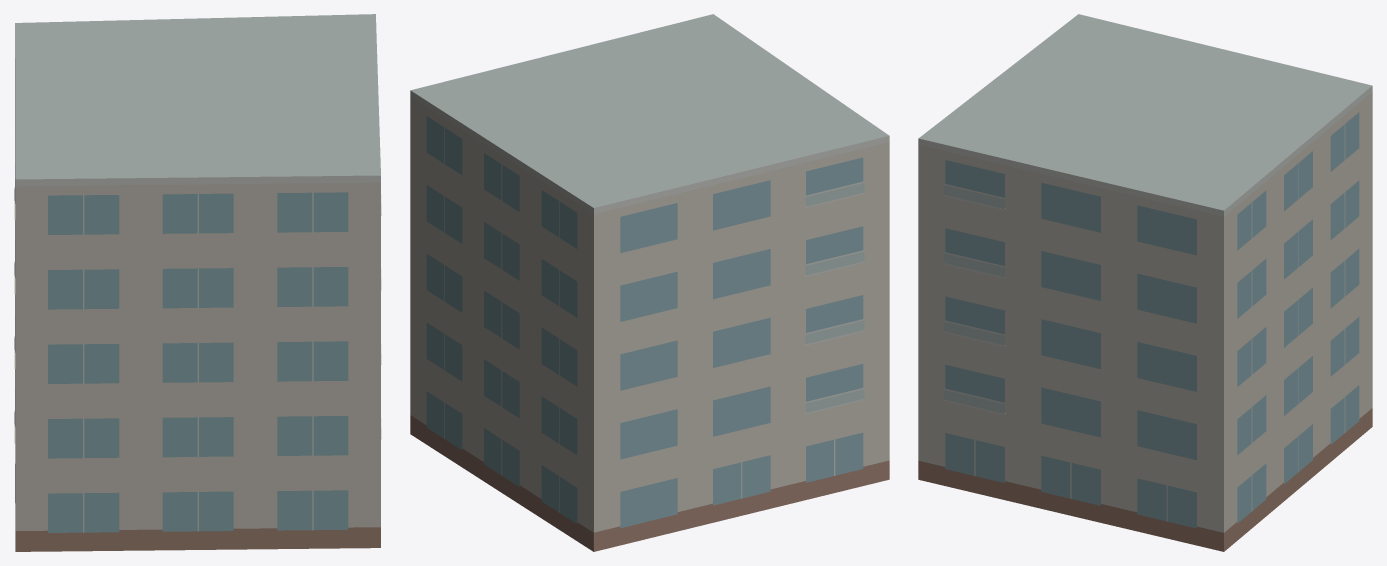
The model's file is survey-upis-32778359.glb.
3 renders of one model, left to right at view 1: azimuth 30°, elevation 25°; view 2: azimuth 150°, elevation 25°; view 3: azimuth 270°, elevation 25°, orthographic. The views are drawn at different scales.
Visible parts, largest first — view 1: survey-upis-32778359.tmp; view 2: survey-upis-32778359.tmp; view 3: survey-upis-32778359.tmp.
Boxes of the visible parts, bbox=[...] form: survey-upis-32778359.tmp: bbox=[14, 14, 381, 551]; survey-upis-32778359.tmp: bbox=[410, 14, 889, 551]; survey-upis-32778359.tmp: bbox=[918, 14, 1372, 551].
Size of the model in its own units: 16.44 by 13.3 by 16.05.
